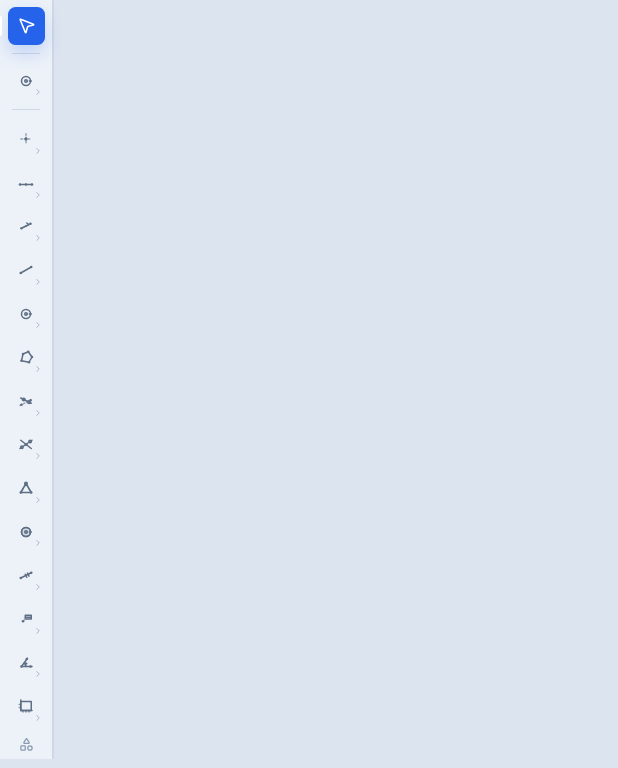
Test case: Toolbar groups › loads valid recent tools from storage
The image size is (618, 768).
Click the button named "Recent tools" at (26, 81), box [8, 62, 45, 99]
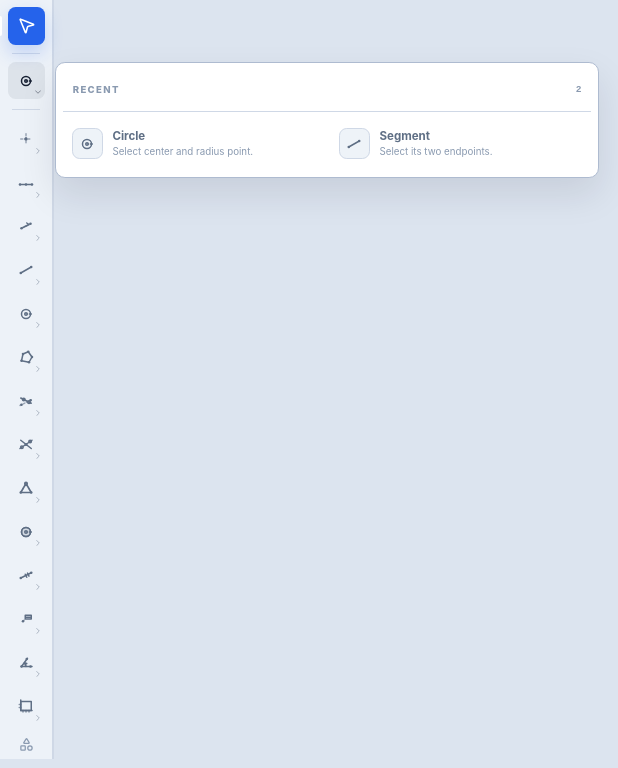
Result: the menu item "Circle Select center and radius point." is shown at [63, 117, 324, 170]
Result: the menu item "Segment Select its two endpoints." is shown at [330, 117, 591, 170]
